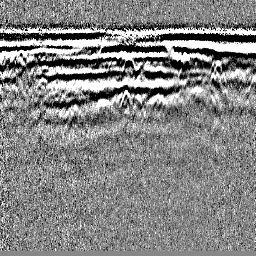cavity: (120, 53, 136, 80)
